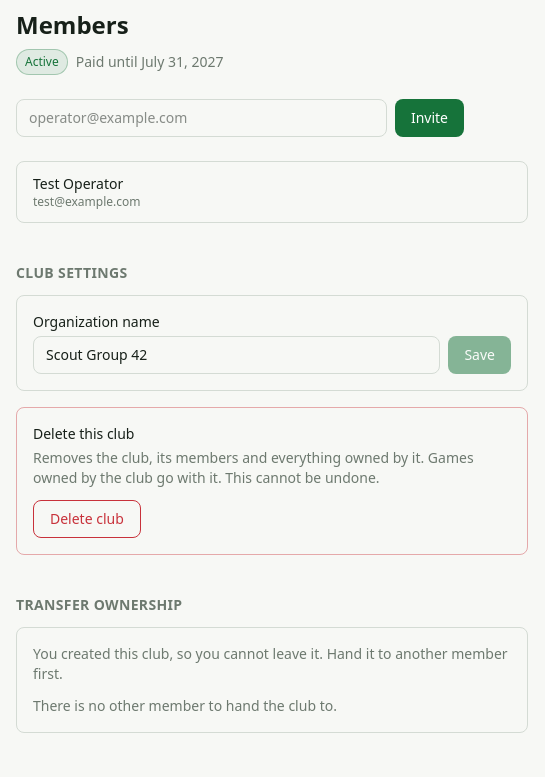
Test: OrgMembersPage settings › reports a failed rename instead of claiming success
Replace the text in the field with test id "org-name-input" with "Scout Group 7" at (237, 355), box [33, 336, 440, 374]
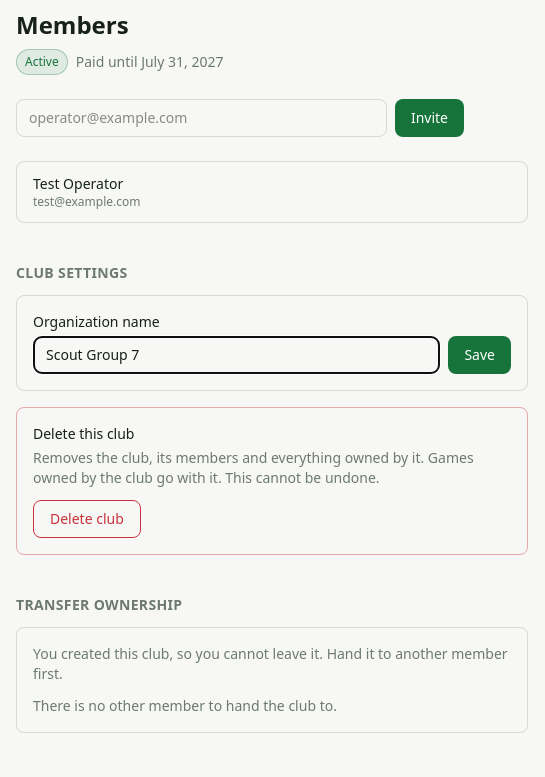
Click the button with test id "org-rename-save" at (480, 355), box [448, 336, 511, 374]
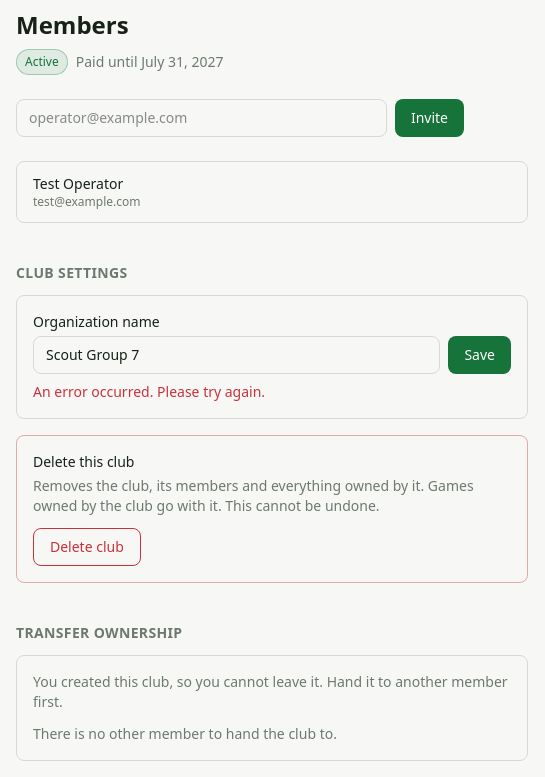
Expected: the message shows "An error occurred", [33, 382, 265, 401]
